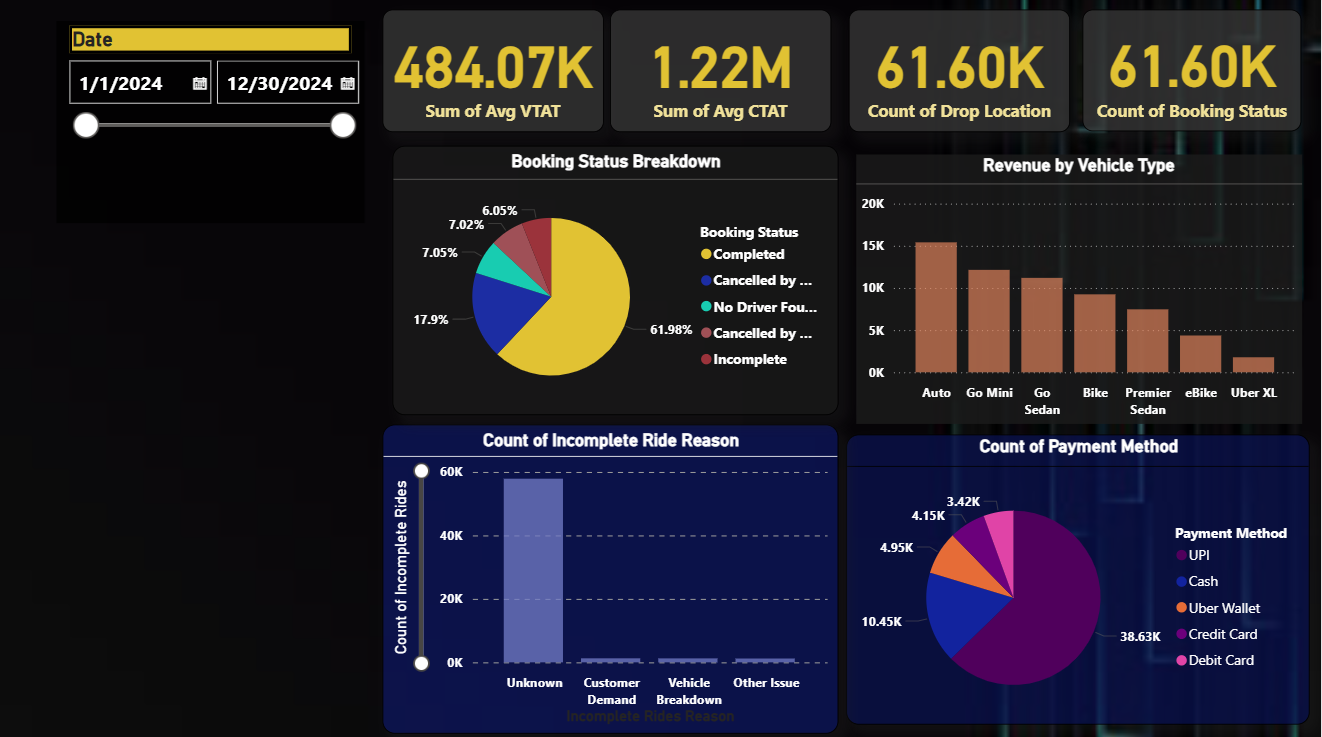

The dashboard page shown, as its layout file describes it:
{"tool":"powerbi","page":{"name":"Page 1","canvas":[1280,720],"ordinal":0},"visuals":[{"type":"pieChart","title":"Count of Payment Method","fields":{"Y":["CountNonNull(Cleaned_Uber_Data.Payment Method)"],"Category":["Cleaned_Uber_Data.Payment Method"]},"box":[821.6,422.3,447.6,279.9],"z":0},{"type":"columnChart","title":"Count of Incomplete Ride Reason","fields":{"Y":["CountNonNull(Cleaned_Uber_Data.Incomplete Rides)"],"Category":["Cleaned_Uber_Data.Incomplete Rides Reason"]},"box":[373.8,412.5,440,298.8],"z":1000},{"type":"card","fields":{"Values":["CountNonNull(Cleaned_Uber_Data.Drop Location)"]},"box":[823.8,12.5,213.8,118.8],"z":2000},{"type":"card","fields":{"Values":["Sum(Cleaned_Uber_Data.Avg VTAT)"]},"box":[373.8,12.5,213.8,118.8],"z":3000},{"type":"card","fields":{"Values":["Sum(Cleaned_Uber_Data.Avg CTAT)"]},"box":[593.8,12.5,213.8,118.8],"z":4000},{"type":"clusteredColumnChart","title":"Revenue by Vehicle Type","fields":{"Category":["Cleaned_Uber_Data.Vehicle Type"],"Y":["CountNonNull(Cleaned_Uber_Data.Payment Method)"]},"box":[831.2,152.5,430,260],"z":5000},{"type":"pieChart","title":"Booking Status Breakdown","fields":{"Y":["CountNonNull(Cleaned_Uber_Data.Booking Status)"],"Category":["Cleaned_Uber_Data.Booking Status"]},"box":[383.8,143.8,430,260],"z":6000},{"type":"card","fields":{"Values":["CountNonNull(Cleaned_Uber_Data.Booking Status)"]},"box":[1050,12.5,211.2,117.5],"z":7000},{"type":"slicer","fields":{"Values":["Cleaned_Uber_Data.Date"]},"box":[58.8,22.5,297.5,195],"z":8000}]}

Visuals, with their boxes in screenshot pixels (x1, y1, x2, y2), scaled from the page's 1280x720 canvas onto the 1322x737 screenshot:
"Count of Payment Method" pieChart: bbox(849, 432, 1311, 719)
"Count of Incomplete Ride Reason" columnChart: bbox(386, 422, 841, 728)
card - CountNonNull(Cleaned_Uber_Data.Drop Location): bbox(851, 13, 1072, 134)
card - Sum(Cleaned_Uber_Data.Avg VTAT): bbox(386, 13, 607, 134)
card - Sum(Cleaned_Uber_Data.Avg CTAT): bbox(613, 13, 834, 134)
"Revenue by Vehicle Type" clusteredColumnChart: bbox(858, 156, 1303, 422)
"Booking Status Breakdown" pieChart: bbox(396, 147, 841, 413)
card - CountNonNull(Cleaned_Uber_Data.Booking Status): bbox(1084, 13, 1303, 133)
slicer - Cleaned_Uber_Data.Date: bbox(61, 23, 368, 223)
